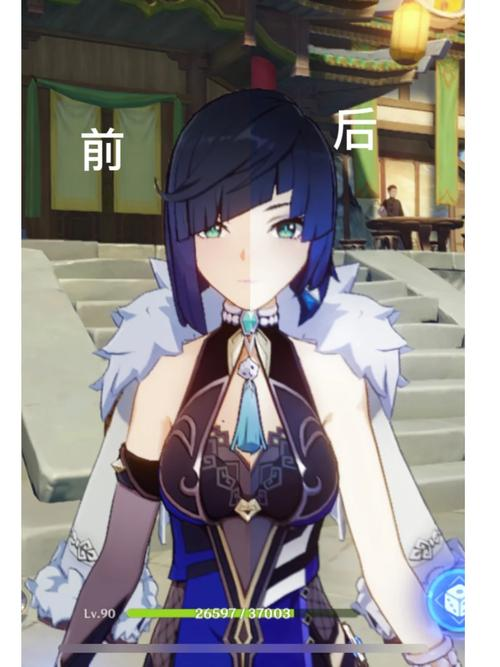夜兰: (66, 88, 463, 664)
